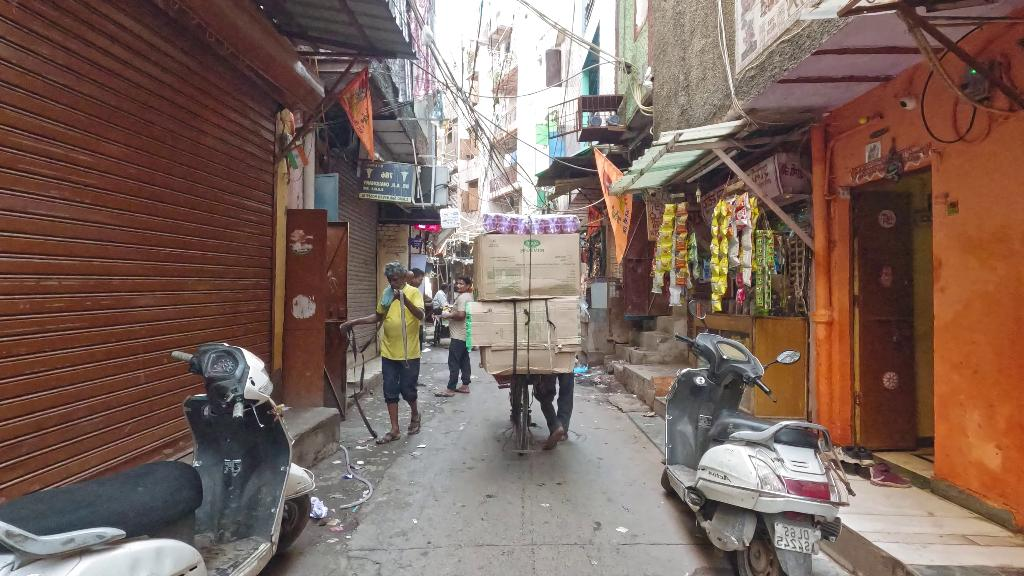garbage: (310, 495, 332, 523)
